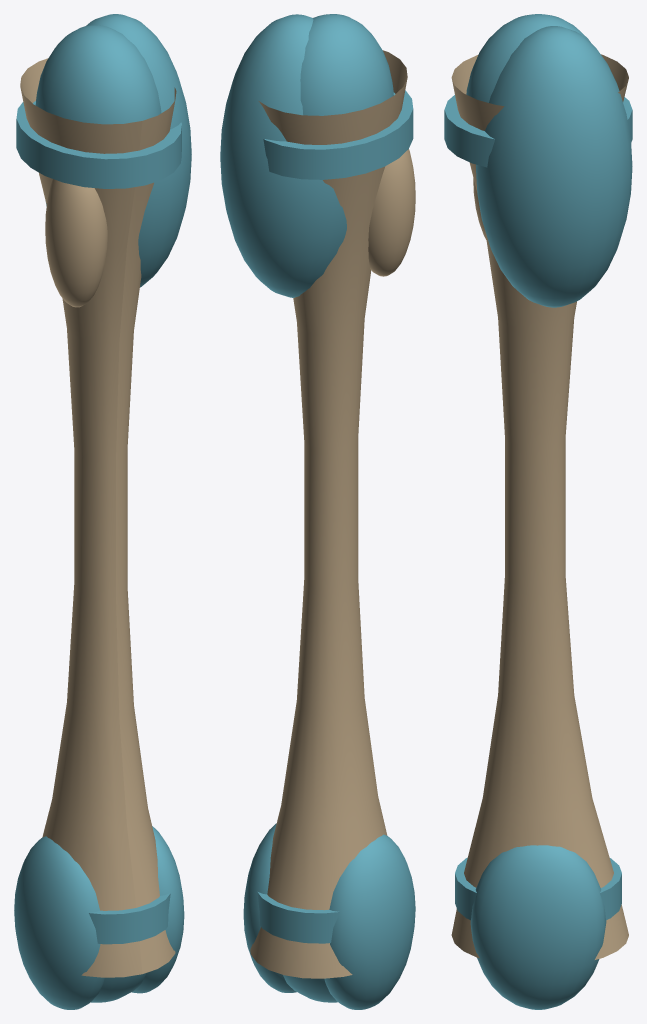
Rendered from right_humerus.glb.
The picture shows the model from 3 angles, left to right: view 1: azimuth 30°, elevation 25°; view 2: azimuth 150°, elevation 25°; view 3: azimuth 270°, elevation 25°; orthographic projection.
Visible parts, largest first — view 1: right_humerus:diaphysis, right_humerus:condyle--1, right_humerus:proximal-envelope, right_humerus:head, right_humerus:proximal-epiphyseal-plate, right_humerus:tubercle, right_humerus:distal-epiphyseal-plate, right_humerus:condyle-1, right_humerus:distal-envelope; view 2: right_humerus:diaphysis, right_humerus:head, right_humerus:condyle--1, right_humerus:proximal-envelope, right_humerus:proximal-epiphyseal-plate, right_humerus:tubercle, right_humerus:distal-epiphyseal-plate, right_humerus:condyle-1, right_humerus:distal-envelope; view 3: right_humerus:diaphysis, right_humerus:head, right_humerus:condyle-1, right_humerus:proximal-envelope, right_humerus:proximal-epiphyseal-plate, right_humerus:distal-epiphyseal-plate.
Part boxes in pixels (<box>): right_humerus:diaphysis: <box>20,58,176,977</box>; right_humerus:condyle--1: <box>14,836,104,1009</box>; right_humerus:proximal-envelope: <box>35,25,161,124</box>; right_humerus:head: <box>46,14,191,287</box>; right_humerus:proximal-epiphyseal-plate: <box>16,101,181,188</box>; right_humerus:tubercle: <box>45,179,107,307</box>; right_humerus:distal-epiphyseal-plate: <box>89,893,170,944</box>; right_humerus:condyle-1: <box>132,826,184,993</box>; right_humerus:distal-envelope: <box>90,973,146,1002</box>; right_humerus:diaphysis: <box>250,50,407,978</box>; right_humerus:head: <box>220,14,346,297</box>; right_humerus:condyle--1: <box>324,834,415,1009</box>; right_humerus:proximal-envelope: <box>300,14,393,115</box>; right_humerus:proximal-epiphyseal-plate: <box>263,90,413,179</box>; right_humerus:tubercle: <box>368,149,415,276</box>; right_humerus:distal-epiphyseal-plate: <box>257,892,339,943</box>; right_humerus:condyle-1: <box>243,823,296,992</box>; right_humerus:distal-envelope: <box>283,975,337,1002</box>; right_humerus:diaphysis: <box>451,54,628,959</box>; right_humerus:head: <box>476,26,632,307</box>; right_humerus:condyle-1: <box>470,845,606,1009</box>; right_humerus:proximal-envelope: <box>466,14,591,102</box>; right_humerus:proximal-epiphyseal-plate: <box>444,95,632,167</box>; right_humerus:distal-epiphyseal-plate: <box>455,857,621,920</box>.
Bounding box in the file's own units: 0.1372 × 0.784 × 0.1372.
